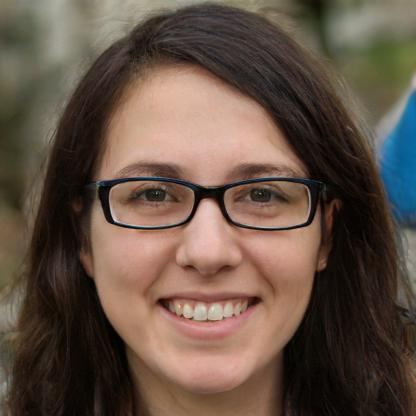glasses: (95, 172, 319, 238)
